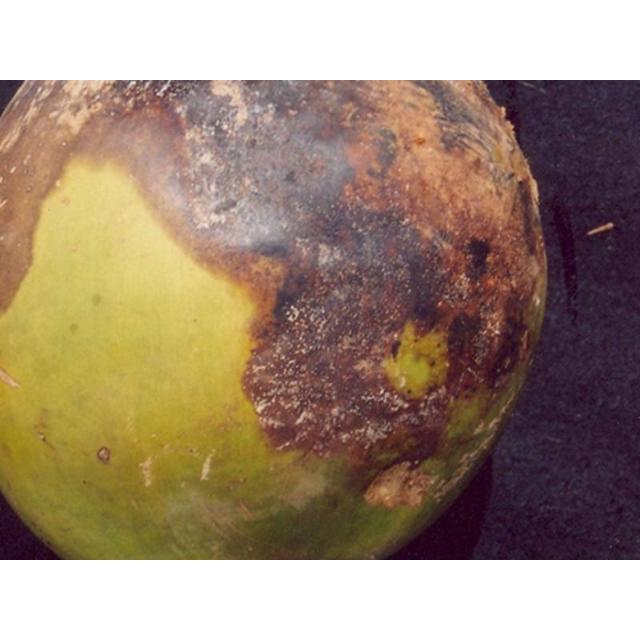damaged: (0, 80, 546, 559)
